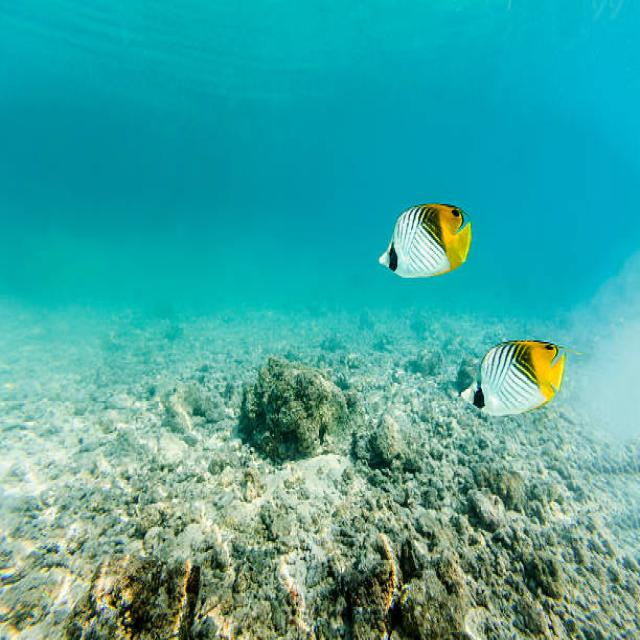ButterflyFish: (458, 336, 568, 424), (375, 197, 475, 280)
